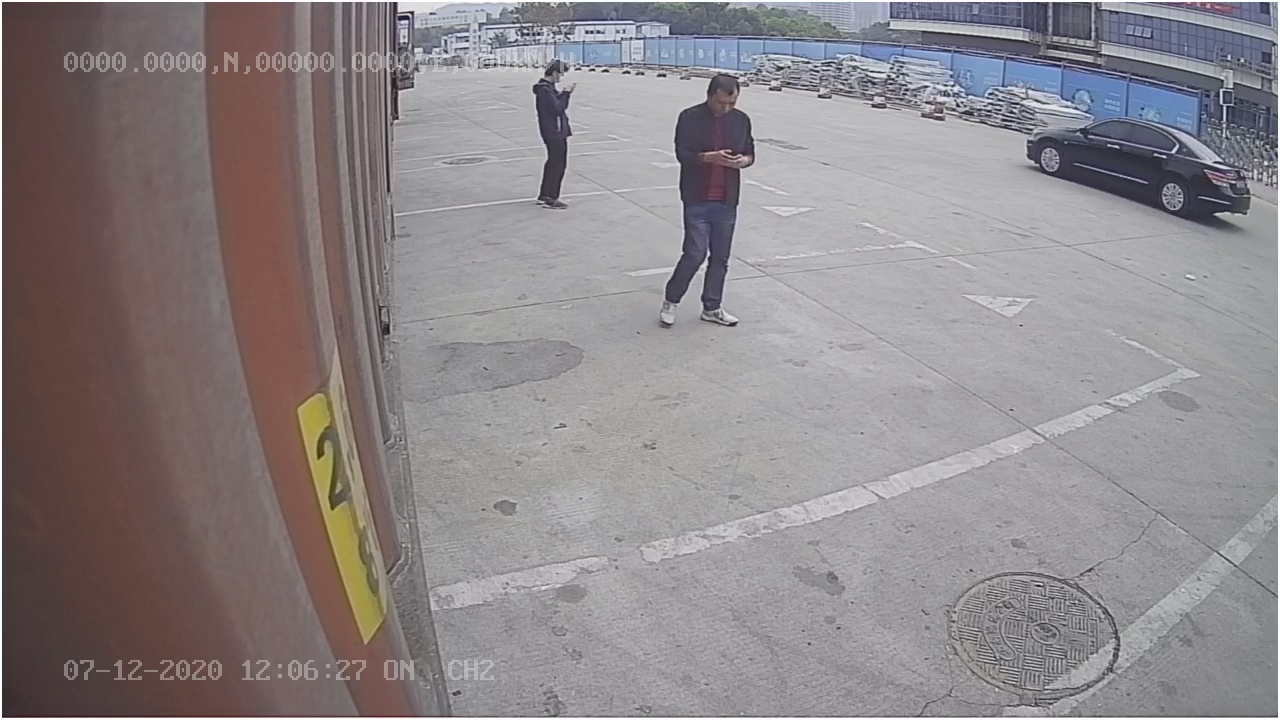person: (658, 66, 756, 333)
